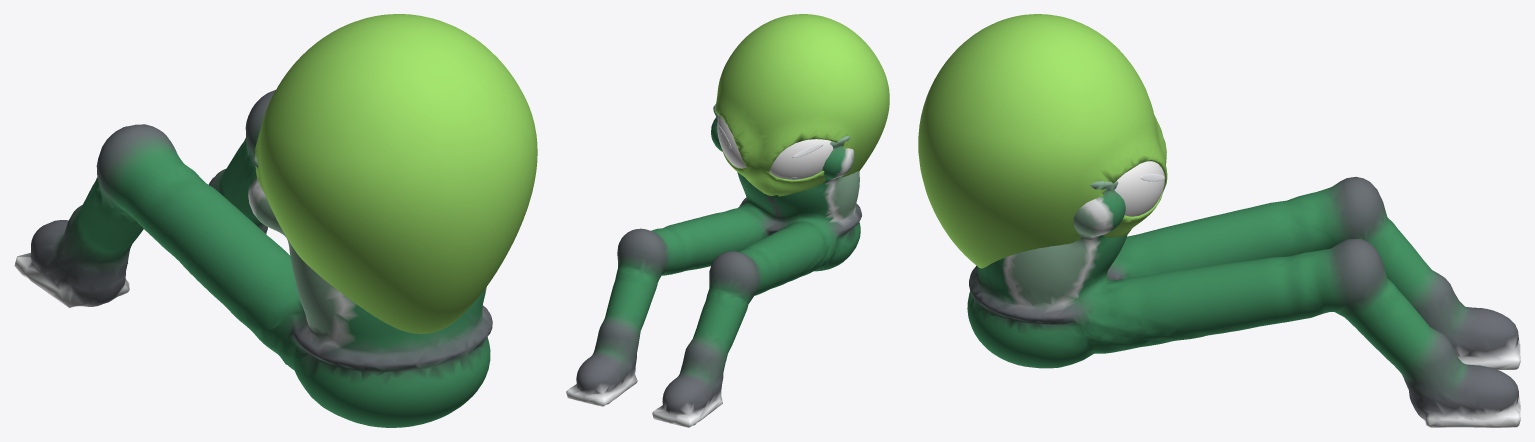
File: et_visitante.glb
3 renders of one model, left to right at view 1: azimuth 30°, elevation 25°; view 2: azimuth 150°, elevation 25°; view 3: azimuth 270°, elevation 25°, orthographic. The views are drawn at different scales.
Parts seen in each view (by area): view 1: Head, Suit; view 2: Suit, Head; view 3: Suit, Head.
Boxes of the visible parts, left/top/right/bottom form: Head: left=255, top=14, right=537, bottom=333; Suit: left=14, top=90, right=492, bottom=427; Suit: left=566, top=104, right=861, bottom=427; Head: left=715, top=14, right=889, bottom=196; Suit: left=967, top=177, right=1520, bottom=427; Head: left=918, top=14, right=1167, bottom=268.
Size of the model in its own units: 0.5197 by 0.8944 by 1.32.
